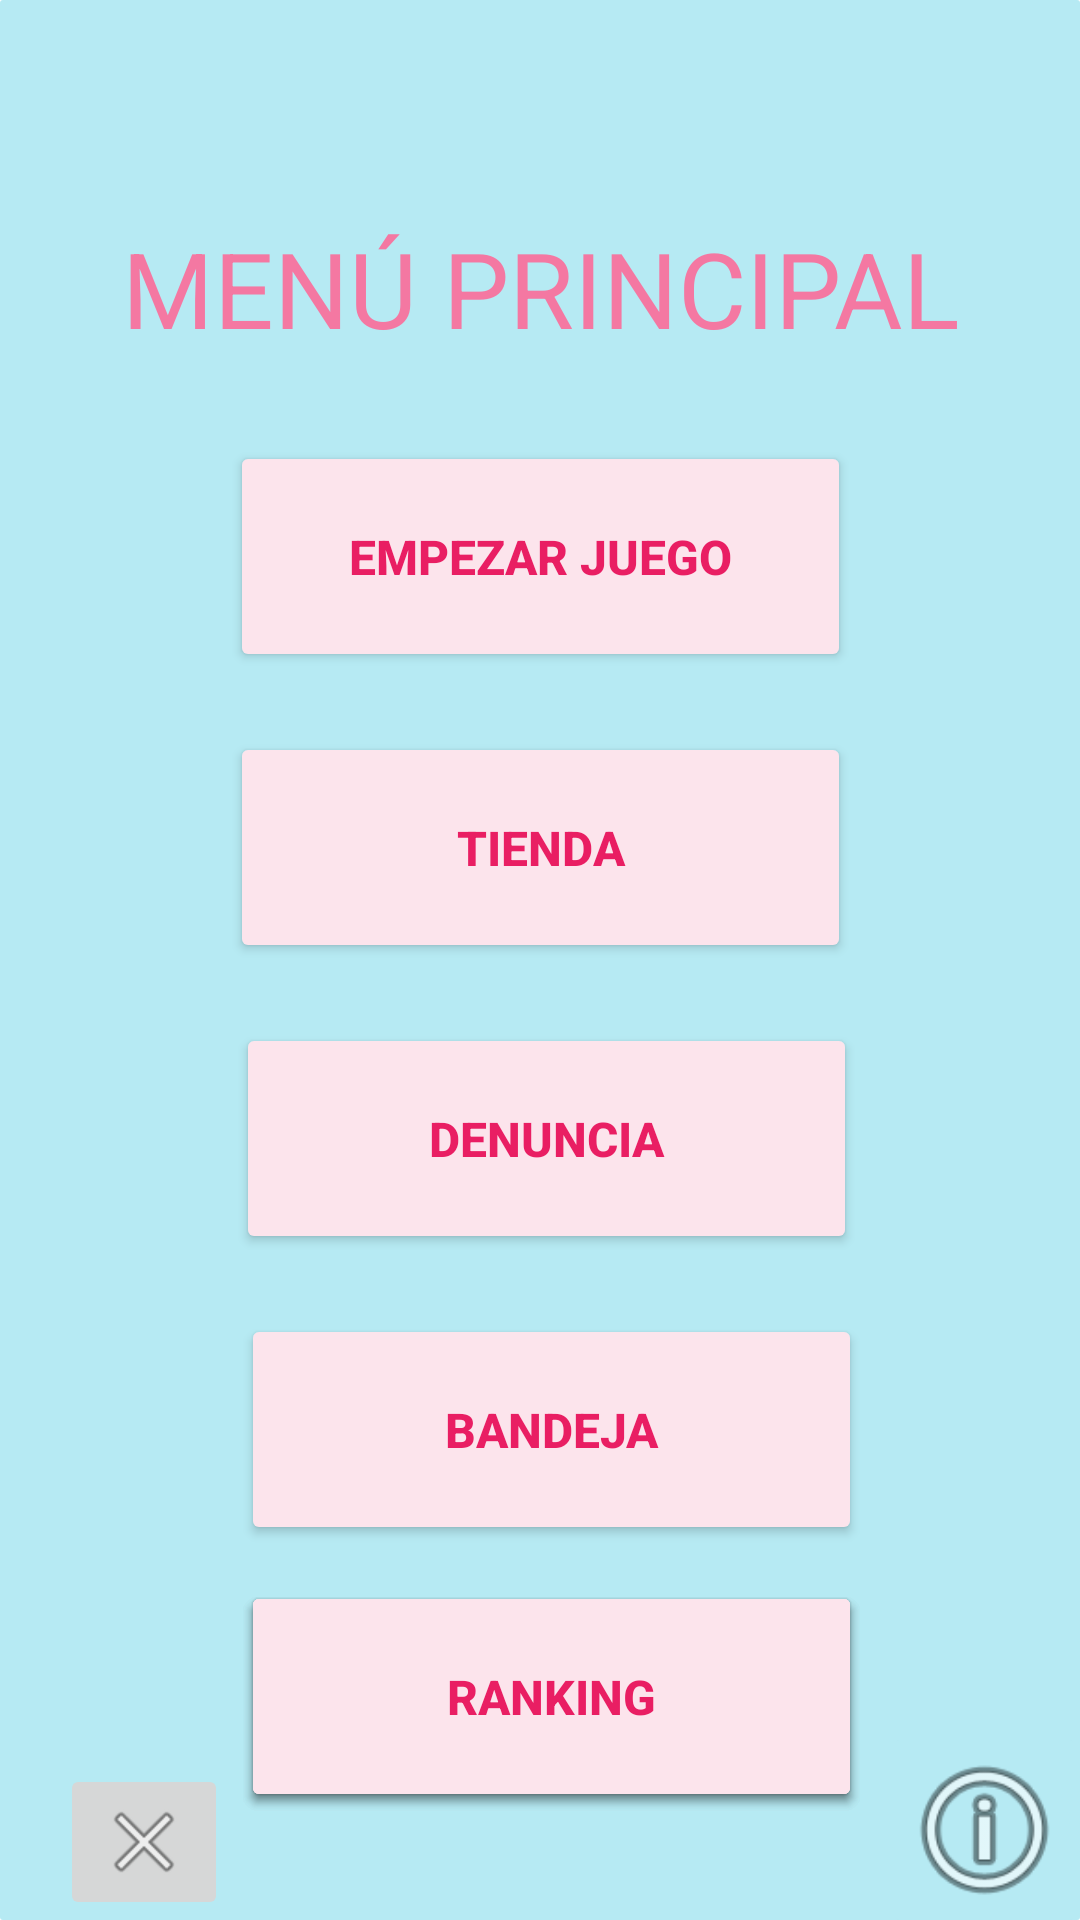

Named icons in this screenshot (1080 × 1920) and their bounding boxes, (x1, y1, x2, y2):
close clear cancel: (72, 1782, 216, 1902)
info details: (920, 1766, 1049, 1894)
